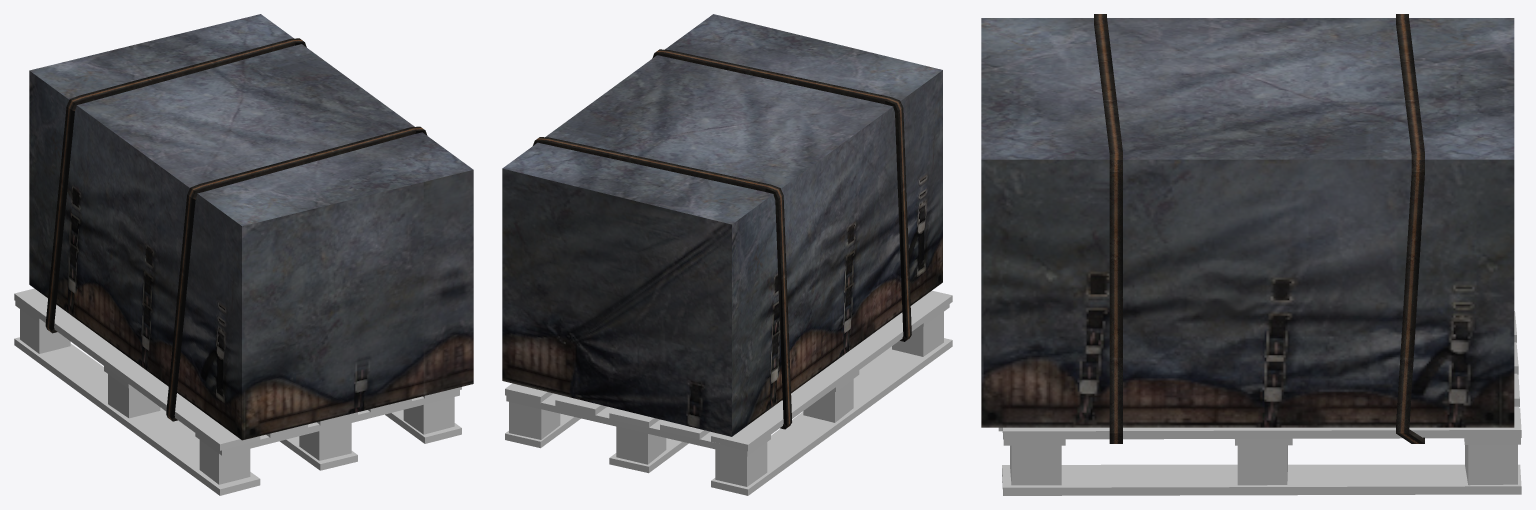
File: box_packing.dae
3 views of the same model, side by side, from view 1: azimuth 30°, elevation 25°; view 2: azimuth 150°, elevation 25°; view 3: azimuth 270°, elevation 25° (orthographic). The views are drawn at different scales.
Visible parts, largest first — view 1: polySurface27, buggy; view 2: polySurface27, buggy; view 3: polySurface27, buggy.
Boxes of the visible parts, x1,y1,x2,y2 form: polySurface27: (29, 14, 473, 440); buggy: (14, 288, 461, 495); polySurface27: (502, 14, 942, 436); buggy: (505, 290, 952, 495); polySurface27: (981, 14, 1514, 443); buggy: (998, 311, 1521, 495).
Size of what is drawn, in the model's own units: 1.59 by 1.62 by 2.32.
